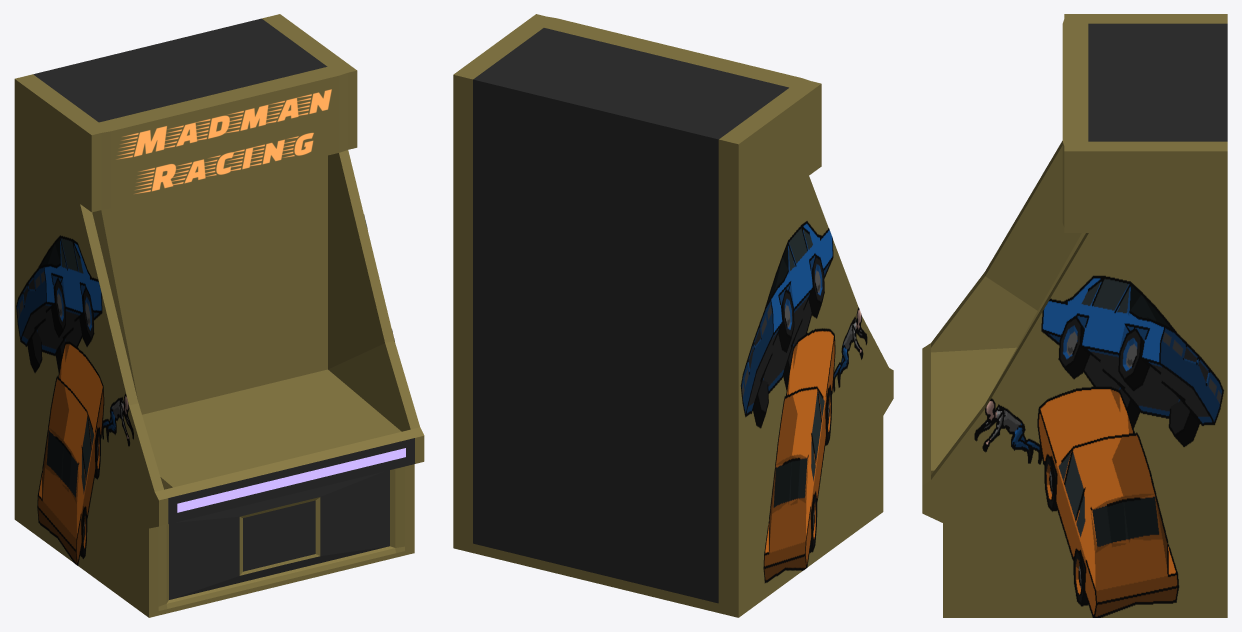
File: Arcade.glb
3 renders of one model, left to right at view 1: azimuth 30°, elevation 25°; view 2: azimuth 150°, elevation 25°; view 3: azimuth 270°, elevation 25°, orthographic. The views are drawn at different scales.
Visible parts, largest first — view 1: Arcade, Side image, Title; view 2: Arcade, Side image; view 3: Arcade, Side image.
Part boxes in pixels (bbox=[...]): Arcade: bbox=[14, 14, 424, 617]; Side image: bbox=[16, 214, 394, 565]; Title: bbox=[117, 89, 331, 193]; Arcade: bbox=[453, 14, 893, 617]; Side image: bbox=[740, 221, 867, 583]; Arcade: bbox=[922, 14, 1227, 617]; Side image: bbox=[974, 275, 1223, 617].
Size of what is drawn, in the model's own units: 4.17 by 6.61 by 3.92.
Materials: 5 (2 with a texture image).
